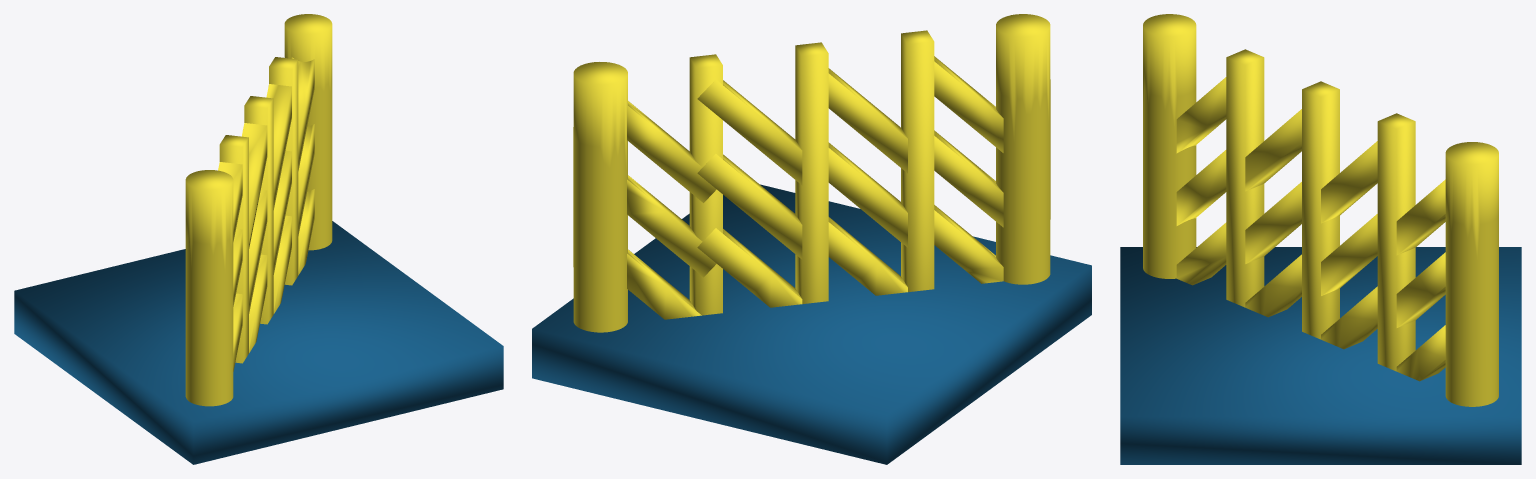
File: w_fence.glb
3 views of the same model, side by side, from view 1: azimuth 30°, elevation 25°; view 2: azimuth 150°, elevation 25°; view 3: azimuth 270°, elevation 25° (orthographic). The views are drawn at different scales.
Parts seen in each view (by area): view 1: basetta, figura; view 2: figura, basetta; view 3: figura, basetta.
Part boxes in pixels (x1=…): basetta: x1=14, y1=221, x2=503, y2=464; figura: x1=185, y1=14, x2=332, y2=406; figura: x1=573, y1=14, x2=1050, y2=332; basetta: x1=532, y1=184, x2=1091, y2=464; figura: x1=1143, y1=14, x2=1498, y2=406; basetta: x1=1120, y1=247, x2=1521, y2=464.
Size of the model in its own units: 0.015 by 0.012 by 0.015.
